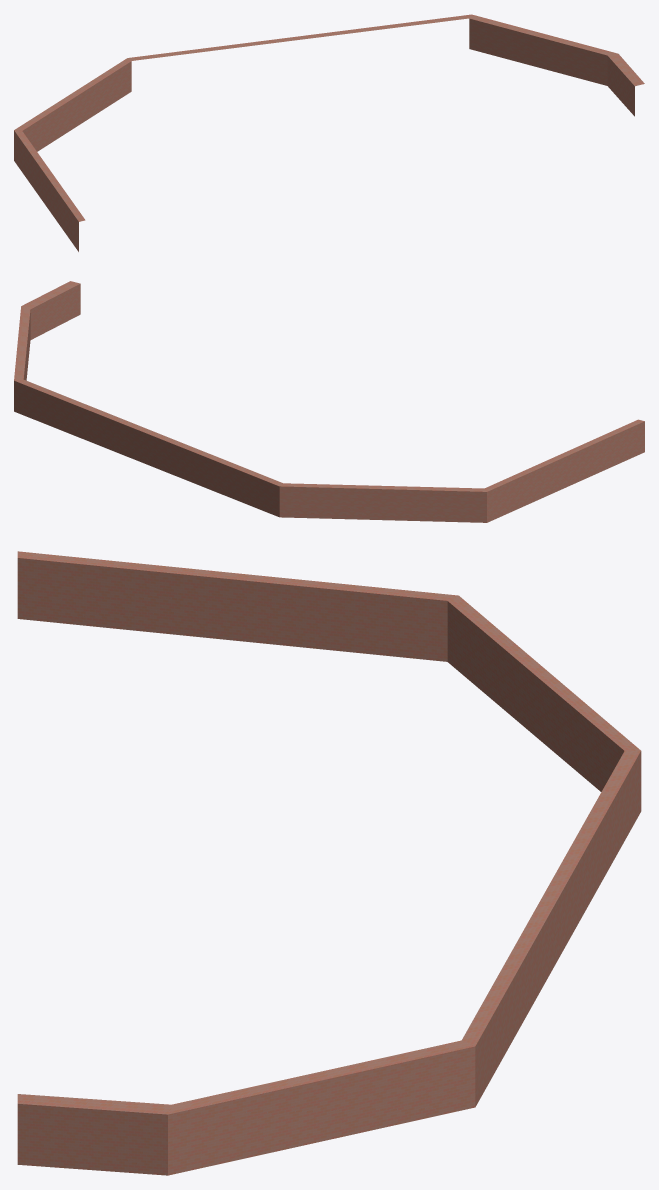
File: kd_stage_1364a3_4_10_bounded.glb
3 renders of one model, top to bottom at view 1: azimuth 30°, elevation 25°; view 2: azimuth 150°, elevation 25°; view 3: azimuth 270°, elevation 25°, orthographic. The views are drawn at different scales.
Visible parts, largest first — view 1: kd_stage_1364a3_4_10_bounded; view 2: kd_stage_1364a3_4_10_bounded; view 3: kd_stage_1364a3_4_10_bounded.
Part boxes in pixels (x1,y1,x2,y2): kd_stage_1364a3_4_10_bounded: [14, 14, 644, 251]; kd_stage_1364a3_4_10_bounded: [14, 281, 644, 522]; kd_stage_1364a3_4_10_bounded: [17, 551, 641, 1175].
Bounding box in the file's own units: 68.77 × 3.48 × 32.17.
Materials: 1 (1 with a texture image).
